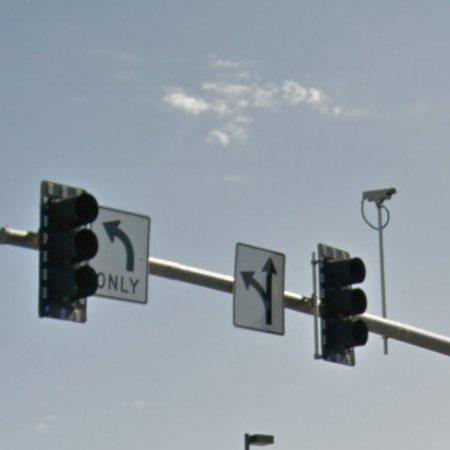traffic lights: (39, 181, 101, 324), (316, 243, 370, 369)
